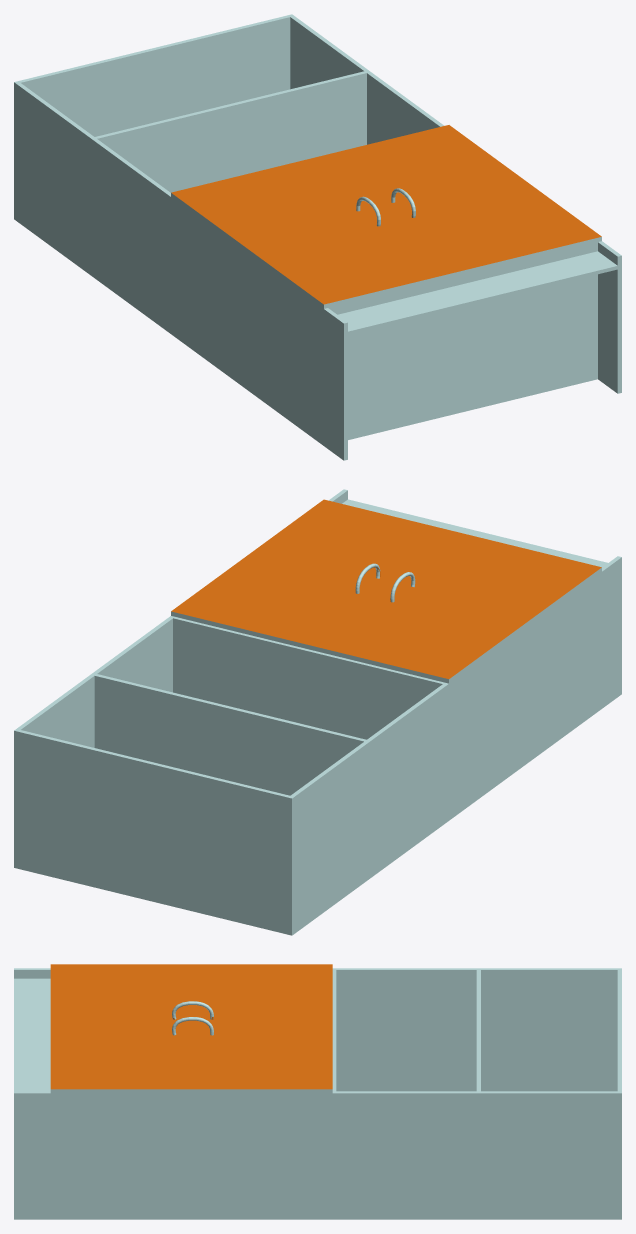
File: Shelf_2_FL.dae
The picture shows the model from 3 angles, top to bottom: view 1: azimuth 30°, elevation 25°; view 2: azimuth 150°, elevation 25°; view 3: azimuth 270°, elevation 25°; orthographic projection. The views are drawn at different scales.
Parts seen in each view (by area): view 1: node0; view 2: node0; view 3: node0.
Boxes of the visible parts, box(x1,y1,x2,y2) form: node0: box(14, 14, 621, 460); node0: box(14, 489, 621, 935); node0: box(14, 964, 621, 1219).
Size of the model in its own units: 0.798 by 1.64 by 0.4404.
